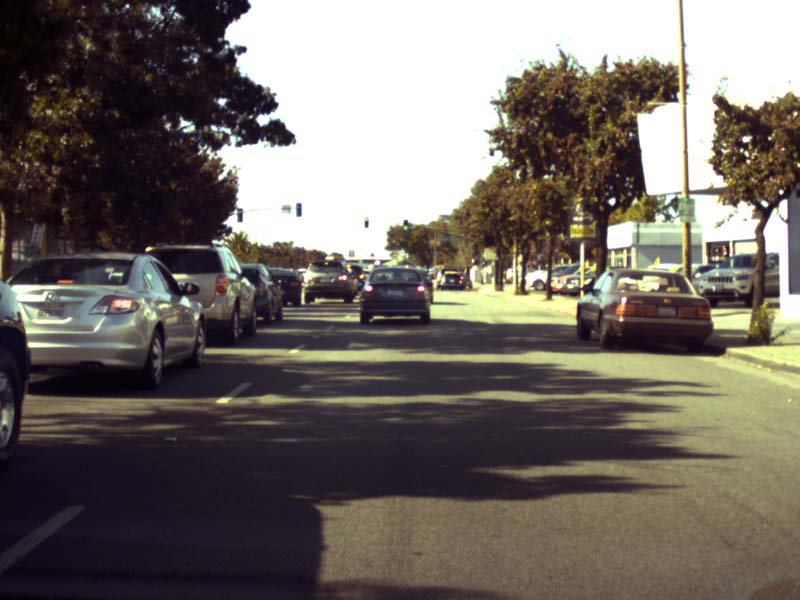Green: (403, 219, 409, 236), (481, 250, 484, 262)
Red: (363, 217, 369, 228)
